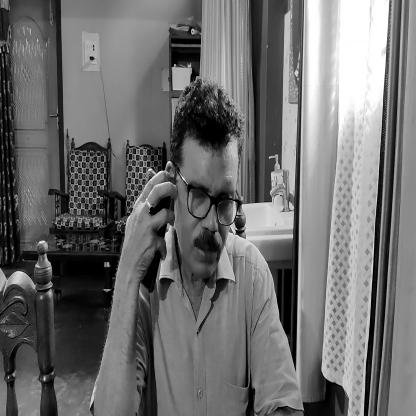Distracted: (167, 67, 240, 289)
